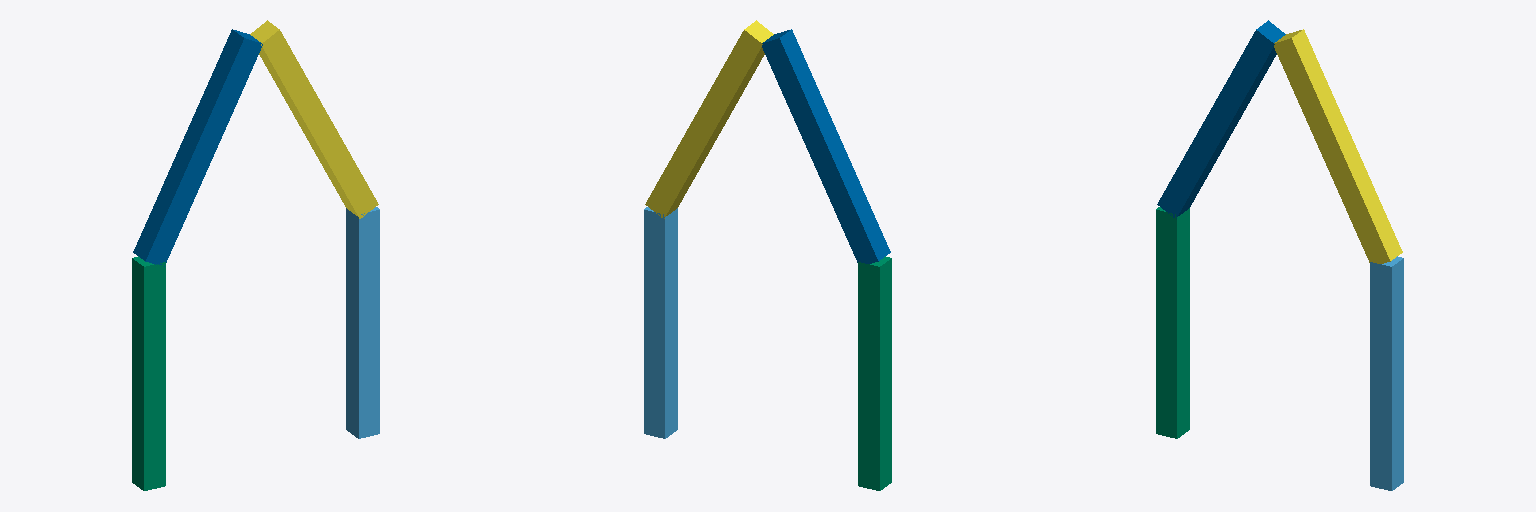
URDF robot description (DoubleScara):
<robot name="DoubleScara">
<link name="base_link"/>

<link name="rightWing">
  <visual>
    <origin xyz="0 0 0.5" rpy="0 0 0" />
    <geometry>
      <box size="0.1 0.1 1.0"/>
    </geometry>
  </visual>
  <collision>
    <origin xyz="0 0 0.5" rpy="0 0 0" />
    <geometry>
      <box size="0.1 0.1 1.0"/>
    </geometry>

  </collision>
</link>

<joint name="rightShoulder" type="revolute">
    <origin xyz="0.5 0 0" rpy="0 0 0" />
    <parent link="base_link" />
    <child link="rightWing" />
    <limit lower="-1.571" upper="1.571" effort="100" velocity="100" />
    <axis xyz="0 1 0" />
</joint>

<link name="leftWing">
  <visual>
    <origin xyz="0 0 0.5" rpy="0 0 0" />
    <geometry>
      <box size="0.1 0.1 1.0"/>
    </geometry>
  </visual>
  <collision>
    <origin xyz="0 0 0.5" rpy="0 0 0" />
    <geometry>
      <box size="0.1 0.1 1.0"/>
    </geometry>
  </collision>
</link>

<joint name="leftShoulder" type="revolute">
    <origin xyz="-0.5 0 0" rpy="0 0 0" />
    <parent link="base_link" />
    <child link="leftWing" />
    <limit lower="-1.571" upper="1.571" effort="100" velocity="100" />
    <axis xyz="0 1 0" />
</joint>


<link name="rightArm">
  <visual>
    <origin xyz="0 0 0.5" rpy="0 0 0" />
    <geometry>
      <box size="0.1 0.1 1.0"/>
    </geometry>
  </visual>
  <collision>
    <origin xyz="0 0 0.5" rpy="0 0 0" />
    <geometry>
      <box size="0.1 0.1 1.0"/>
    </geometry>
  </collision>
</link>

<joint name="rightElbow" type="revolute">
    <origin xyz="0 0 1" rpy="0 -0.48 0" />
    <parent link="rightWing" />
    <child link="rightArm" />
    <limit lower="-1.571" upper="1.571" effort="100" velocity="100" />
    <axis xyz="0 1 0" />
</joint>

<link name="leftArm">
  <visual>
    <origin xyz="0 0 0.5" rpy="0 0 0" />
    <geometry>
      <box size="0.1 0.1 1.0"/>
    </geometry>
  </visual>
  <collision>
    <origin xyz="0 0 0.5" rpy="0 0 0" />
    <geometry>
      <box size="0.1 0.1 1.0"/>
    </geometry>
  </collision>
</link>

<joint name="leftElbow" type="revolute">
    <origin xyz="0 0 1" rpy="0 0.48 0" />
    <parent link="leftWing" />
    <child link="leftArm" />
    <limit lower="-1.571" upper="1.571" effort="100" velocity="100" />
    <axis xyz="0 1 0" />
</joint>


</robot>

--- What the picture shows (computed from the rendered views, not written in the file) ---
The picture shows the robot from 3 angles, left to right: view 1: azimuth 30°, elevation 25°; view 2: azimuth 150°, elevation 25°; view 3: azimuth 330°, elevation 25°; orthographic projection.
Robot: DoubleScara — 5 links, 4 joints (4 revolute); root link base_link; default pose: every joint at zero.
Visible links, largest first — view 1: leftArm, leftWing, rightWing, rightArm; view 2: leftArm, leftWing, rightWing, rightArm; view 3: rightArm, rightWing, leftWing, leftArm.
Boxes of the visible links, box(x1,y1,x2,y2) form: leftArm: box(133, 29, 262, 266); leftWing: box(132, 256, 165, 490); rightWing: box(346, 207, 379, 438); rightArm: box(250, 20, 378, 218); leftArm: box(762, 29, 890, 263); leftWing: box(858, 256, 891, 490); rightWing: box(644, 207, 677, 438); rightArm: box(645, 20, 773, 218); rightArm: box(1274, 29, 1402, 263); rightWing: box(1370, 256, 1403, 490); leftWing: box(1156, 207, 1189, 438); leftArm: box(1157, 20, 1285, 218).
Size in the robot's own frame: 1.1 by 0.1 by 1.91 metres.
Geometry: primitives only (box / cylinder / sphere), no mesh files.